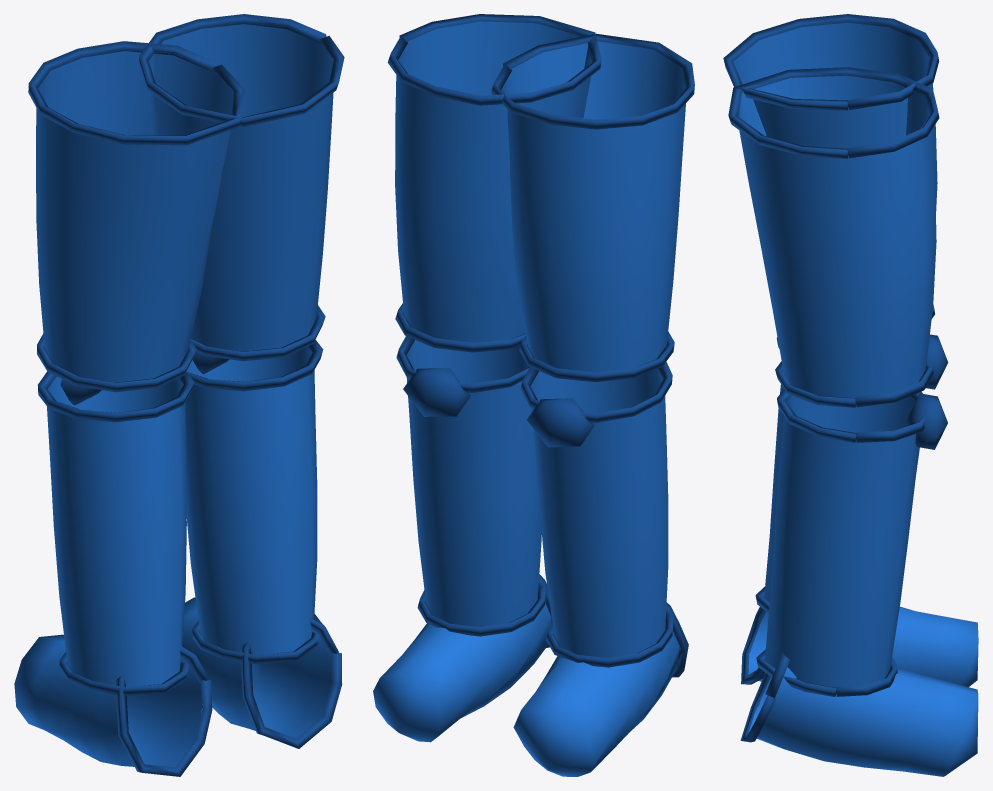
The model's file is cobalt_greaves.glb.
3 views of the same model, side by side, from view 1: azimuth 30°, elevation 25°; view 2: azimuth 150°, elevation 25°; view 3: azimuth 270°, elevation 25° (orthographic). The views are drawn at different scales.
Visible parts, largest first — view 1: cobalt_greaves_cuisse.L; view 2: cobalt_greaves_cuisse.L; view 3: cobalt_greaves_cuisse.L.
Boxes of the visible parts, left/top/right/bottom form: cobalt_greaves_cuisse.L: left=14, top=14, right=344, bottom=776; cobalt_greaves_cuisse.L: left=373, top=14, right=694, bottom=776; cobalt_greaves_cuisse.L: left=723, top=14, right=978, bottom=776.
Size of the model in its own units: 0.4249 by 0.9563 by 0.3366.
